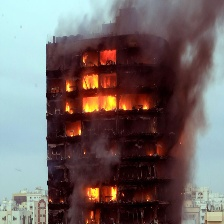fire: (65, 74, 156, 115), (80, 45, 120, 69), (87, 183, 118, 204), (60, 121, 89, 139), (85, 211, 101, 222)
smoke: (128, 4, 223, 223)
